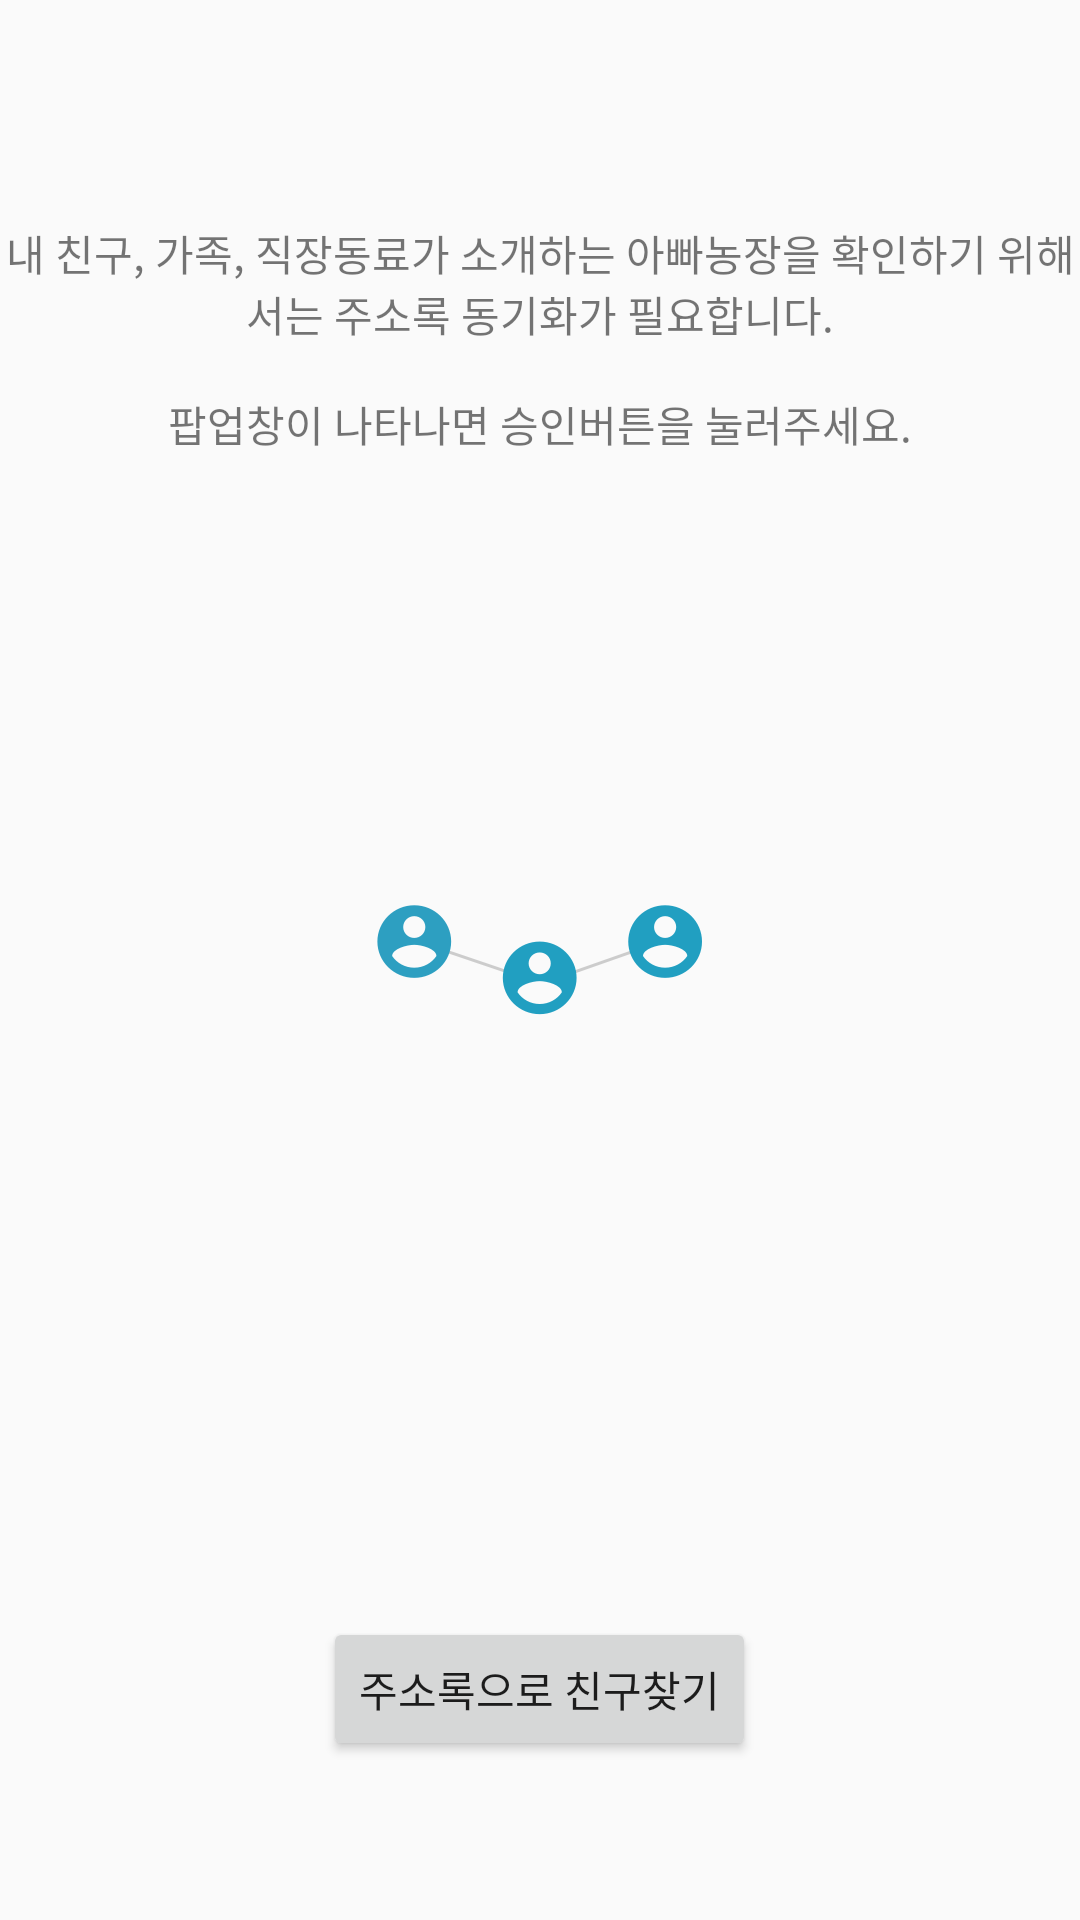

Screen size 1080x1920. Icon name, then its box in pixels as (x1, y1, x2, y2):
network: (377, 905, 702, 1015)
